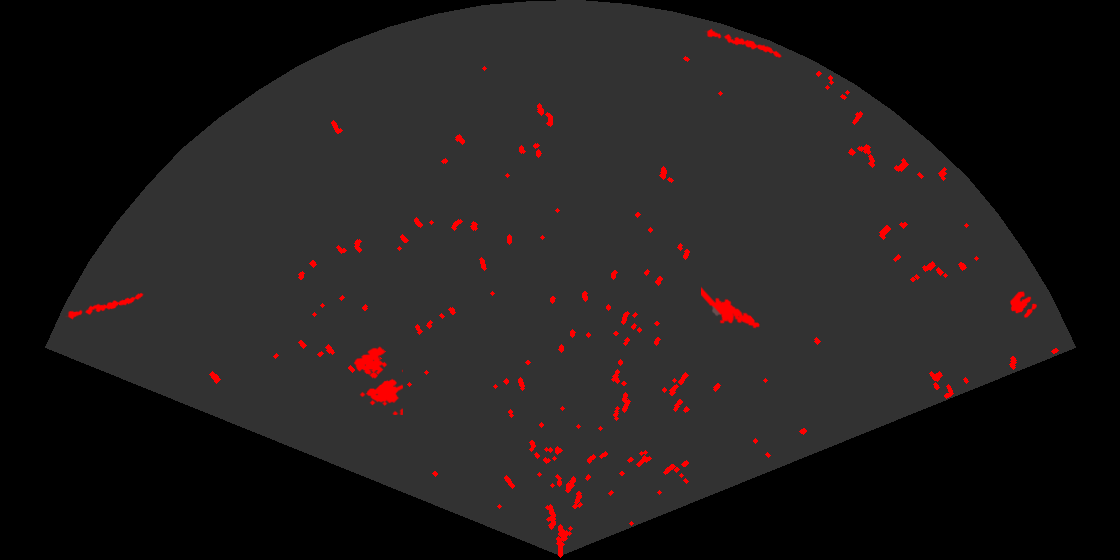ball: (1008, 289, 1039, 319)
cage: (352, 345, 403, 415)
chain: (703, 27, 784, 59), (64, 291, 146, 321)
frogman: (701, 285, 761, 330)
